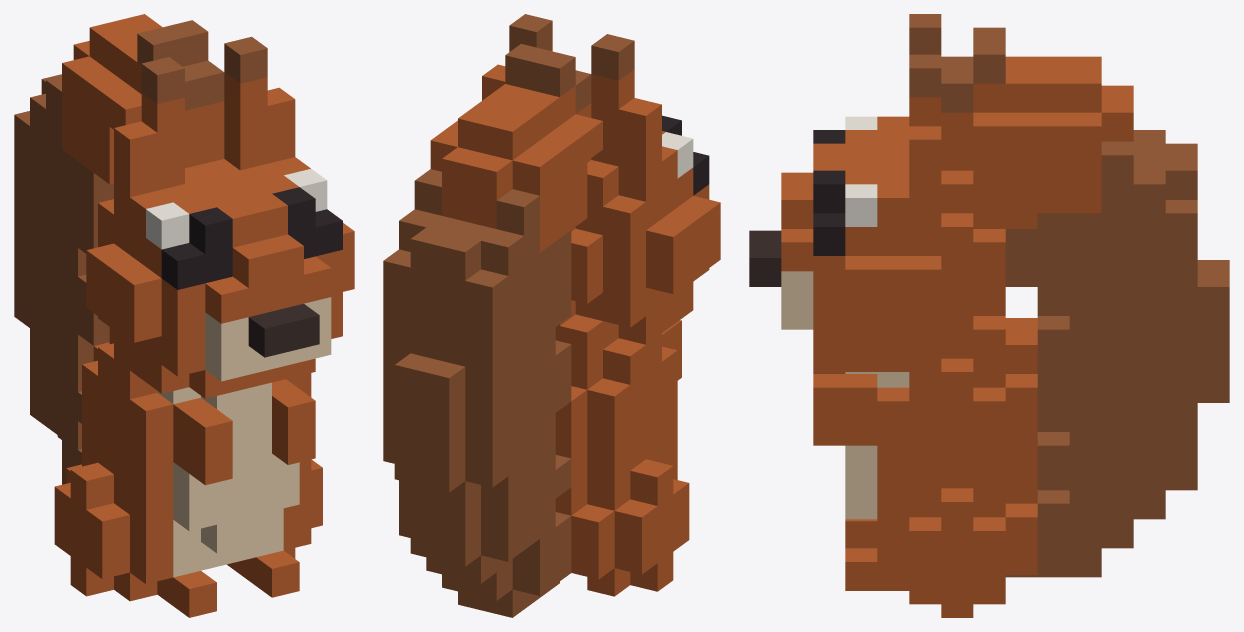
Rendered from squirrel.obj.
The picture shows the model from 3 angles, left to right: view 1: azimuth 30°, elevation 25°; view 2: azimuth 150°, elevation 25°; view 3: azimuth 270°, elevation 25°; orthographic projection.
Visible parts, largest first — view 1: squirrel; view 2: squirrel; view 3: squirrel.
Part boxes in pixels (x1=…): squirrel: x1=14, y1=14, x2=354, y2=617; squirrel: x1=383, y1=14, x2=720, y2=617; squirrel: x1=749, y1=14, x2=1229, y2=617.
Bounding box in the file's own units: 0.8 × 1.8 × 1.5.
Materials: 1 (1 with a texture image).
